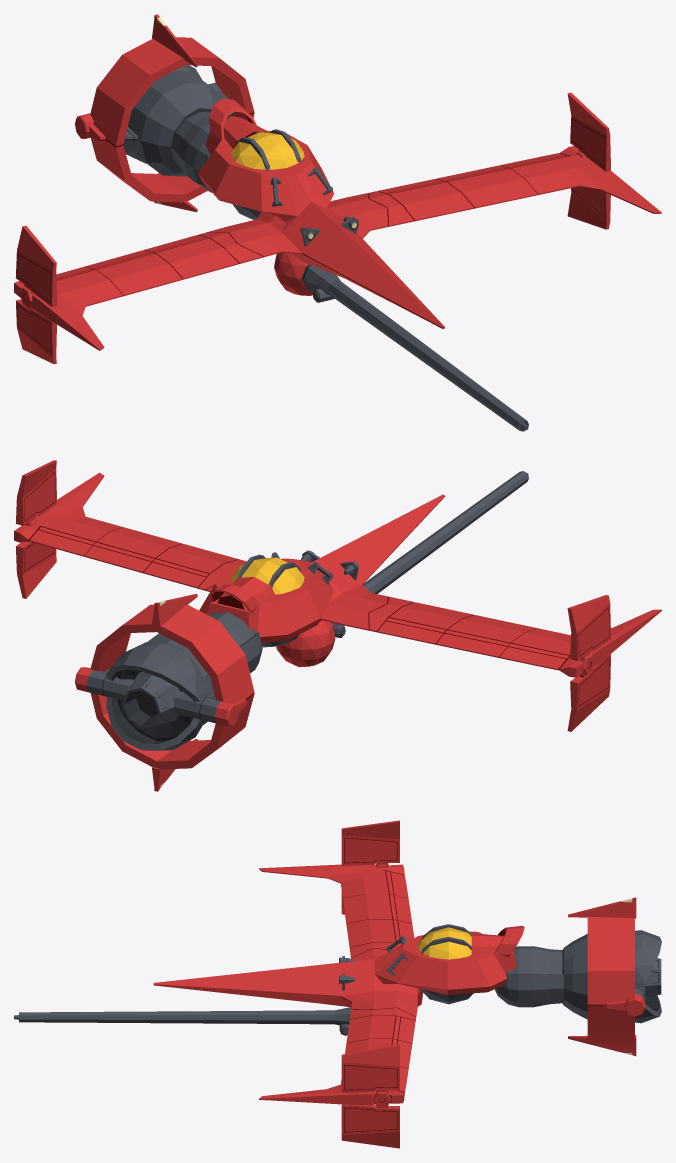
Rendered from swordFishV1.gltf.
3 views of the same model, one above another, from view 1: azimuth 30°, elevation 25°; view 2: azimuth 150°, elevation 25°; view 3: azimuth 270°, elevation 25° (orthographic). The views are drawn at different scales.
Visible parts, largest first — view 1: Object_3; view 2: Object_3; view 3: Object_3.
Boxes of the visible parts, <box> form: Object_3: <box>14,14,661,431</box>; Object_3: <box>14,460,661,791</box>; Object_3: <box>14,820,661,1148</box>.
Bounding box in the file's own units: 9.19 × 2.92 × 10.87.
1 material, 1 textured.
